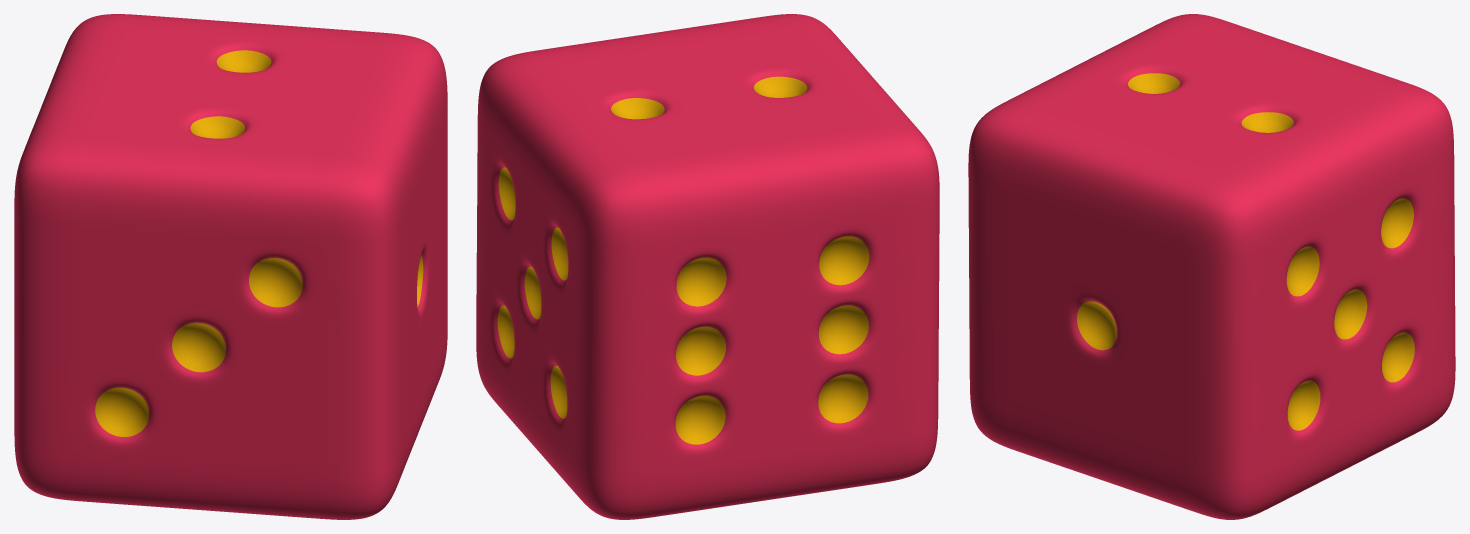
The model's file is dice1.glb.
3 views of the same model, side by side, from view 1: azimuth 30°, elevation 25°; view 2: azimuth 150°, elevation 25°; view 3: azimuth 270°, elevation 25° (orthographic). The views are drawn at different scales.
Parts seen in each view (by area): view 1: Cube003; view 2: Cube003; view 3: Cube003.
Part boxes in pixels (x1=…): Cube003: x1=14, y1=14, x2=447, y2=519; Cube003: x1=476, y1=14, x2=939, y2=519; Cube003: x1=968, y1=14, x2=1455, y2=519.
Size of the model in its own units: 2.63 by 2.01 by 2.64.
